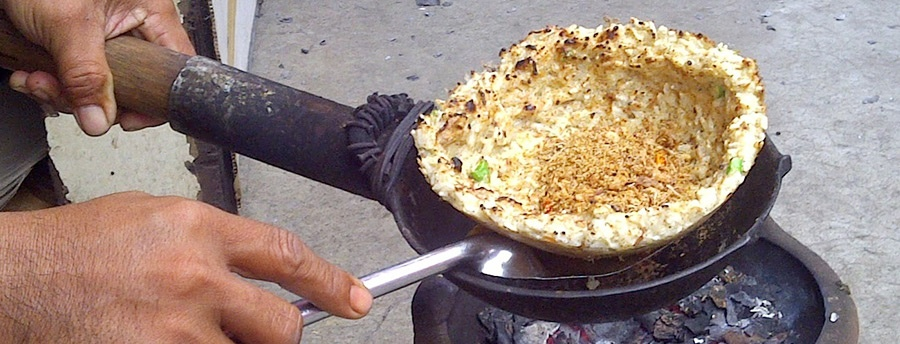kerak_telor: (401, 16, 769, 263)
